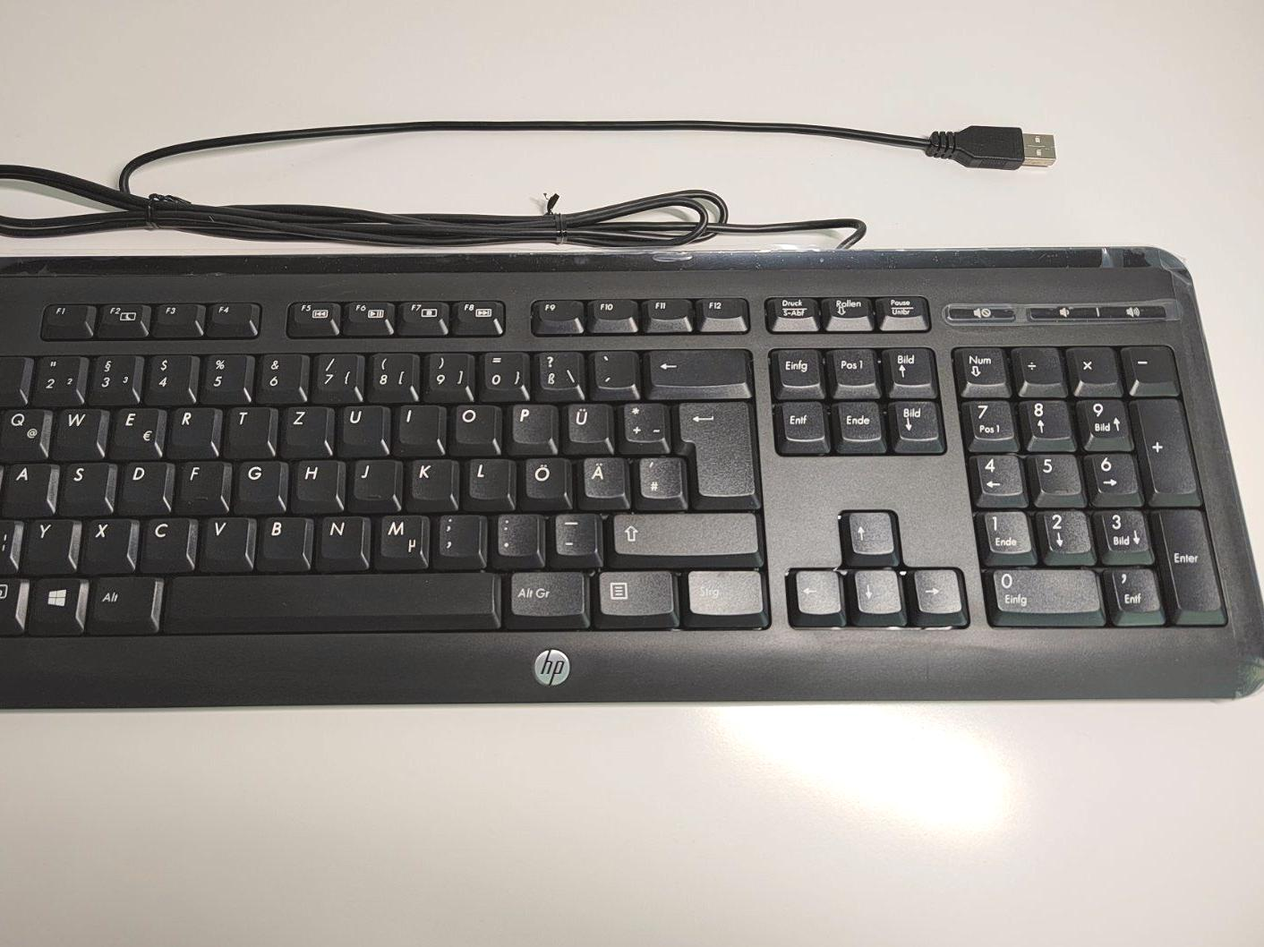0: (476, 346, 526, 397)
1: (1, 351, 27, 402)
2: (32, 350, 82, 401)
3: (87, 349, 136, 401)
4: (142, 349, 192, 400)
5: (198, 348, 248, 399)
6: (254, 347, 303, 399)
7: (310, 347, 359, 397)
8: (365, 347, 416, 398)
9: (422, 347, 471, 397)
a: (1, 460, 53, 512)
accent: (590, 346, 636, 389)
ae: (579, 453, 626, 498)
alt-left: (83, 572, 158, 629)
altgr-right: (504, 567, 585, 617)
b: (256, 512, 307, 564)
c: (138, 515, 192, 568)
caret: (1, 352, 27, 401)
comma: (433, 510, 480, 560)
d: (116, 457, 168, 511)
del: (645, 345, 747, 387)
e: (107, 404, 162, 455)
enter: (674, 397, 755, 497)
f: (176, 457, 225, 509)
g: (233, 458, 280, 507)
h: (291, 456, 339, 506)
hash: (635, 453, 682, 498)
i: (395, 401, 440, 447)
j: (350, 456, 397, 502)
k: (407, 456, 453, 501)
keyboard: (1, 250, 1264, 711)
l: (465, 455, 509, 499)
less: (1, 516, 29, 570)
m: (374, 510, 425, 562)
minus: (551, 509, 597, 555)
n: (316, 512, 364, 561)
o: (449, 401, 497, 445)
oe: (520, 454, 567, 499)
p: (508, 400, 554, 444)
plus: (619, 398, 666, 443)
point: (492, 510, 539, 557)
q: (1, 405, 47, 456)
r: (166, 404, 218, 454)
s: (56, 458, 112, 512)
shift-left: (1, 517, 37, 572)
shift-lock: (1, 458, 49, 514)
shift-right: (609, 508, 756, 554)
space: (160, 567, 495, 628)
ss: (533, 346, 581, 393)
strg-left: (1, 574, 47, 634)
strg-right: (683, 566, 765, 615)
t: (223, 403, 272, 454)
tab: (1, 404, 41, 456)
u: (337, 401, 384, 448)
ue: (563, 400, 610, 443)
v: (200, 514, 250, 568)
w: (50, 404, 103, 456)
x: (79, 515, 132, 569)
y: (20, 516, 74, 570)
z: (279, 402, 328, 450)
